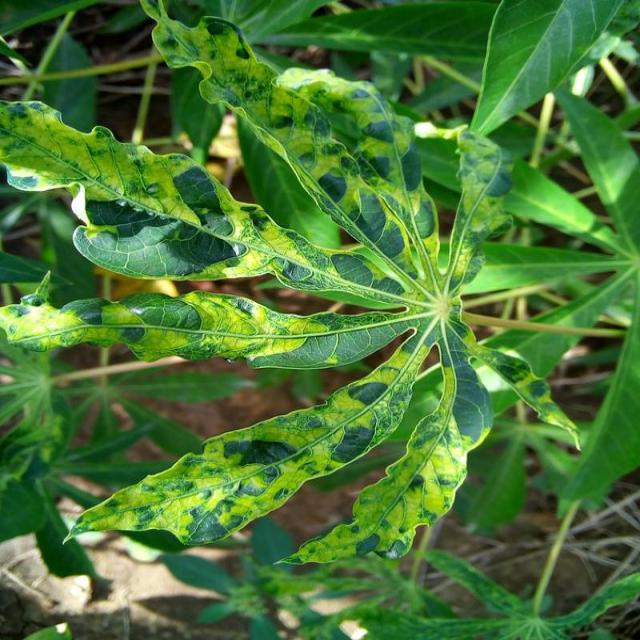cassava leaf: (2, 1, 634, 571)
